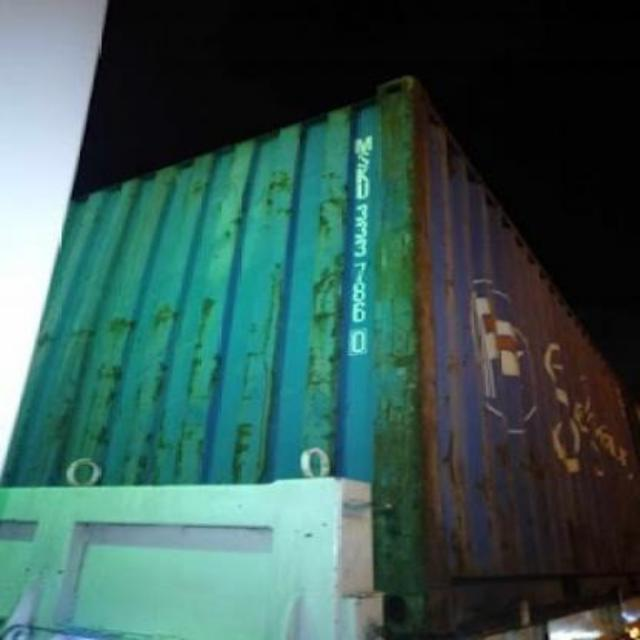0: (348, 329, 368, 356)
3: (352, 203, 373, 221), (352, 222, 373, 238), (352, 239, 370, 255)
6: (350, 300, 370, 324)
7: (351, 260, 372, 282)
8: (350, 282, 370, 302)
K: (350, 168, 376, 180)
M: (350, 133, 378, 151)
S: (350, 152, 380, 168)
U: (350, 182, 374, 198)
